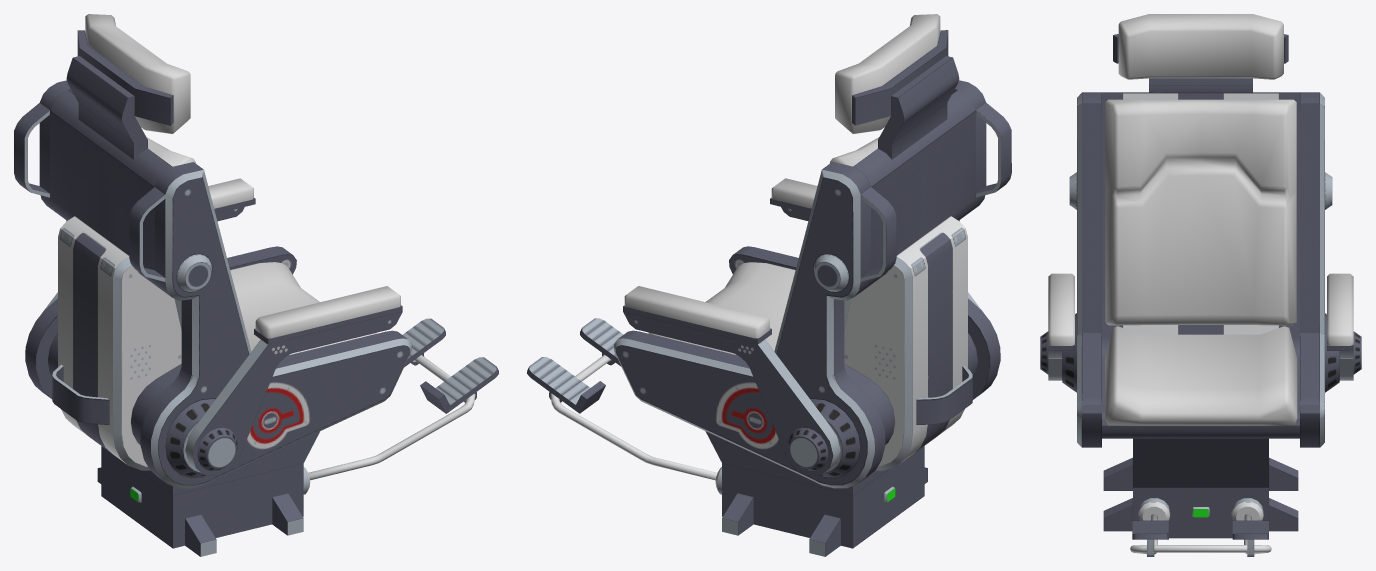
The model's file is Chair_05.FBX.
3 renders of one model, left to right at view 1: azimuth 30°, elevation 25°; view 2: azimuth 150°, elevation 25°; view 3: azimuth 270°, elevation 25°, orthographic. The views are drawn at different scales.
Parts seen in each view (by area): view 1: Chair_05, Armrest_Right, Armrest_Left; view 2: Chair_05, Armrest_Left, Armrest_Right; view 3: Chair_05, Armrest_Right, Armrest_Left.
Boxes of the visible parts, x1,y1,x2,y2 form: Chair_05: (14,14,498,556); Armrest_Right: (185,286,402,475); Armrest_Left: (42,178,255,312); Chair_05: (527,14,1011,556); Armrest_Left: (623,286,840,475); Armrest_Right: (770,178,983,312); Chair_05: (1062,14,1339,556); Armrest_Right: (1040,273,1074,380); Armrest_Left: (1327,273,1361,380).
Bounding box in the file's own units: 1.53 × 1.76 × 1.12.
